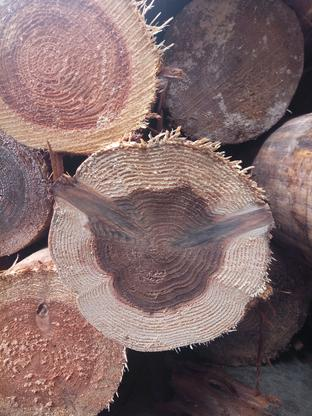mood: (49, 140, 274, 352)
